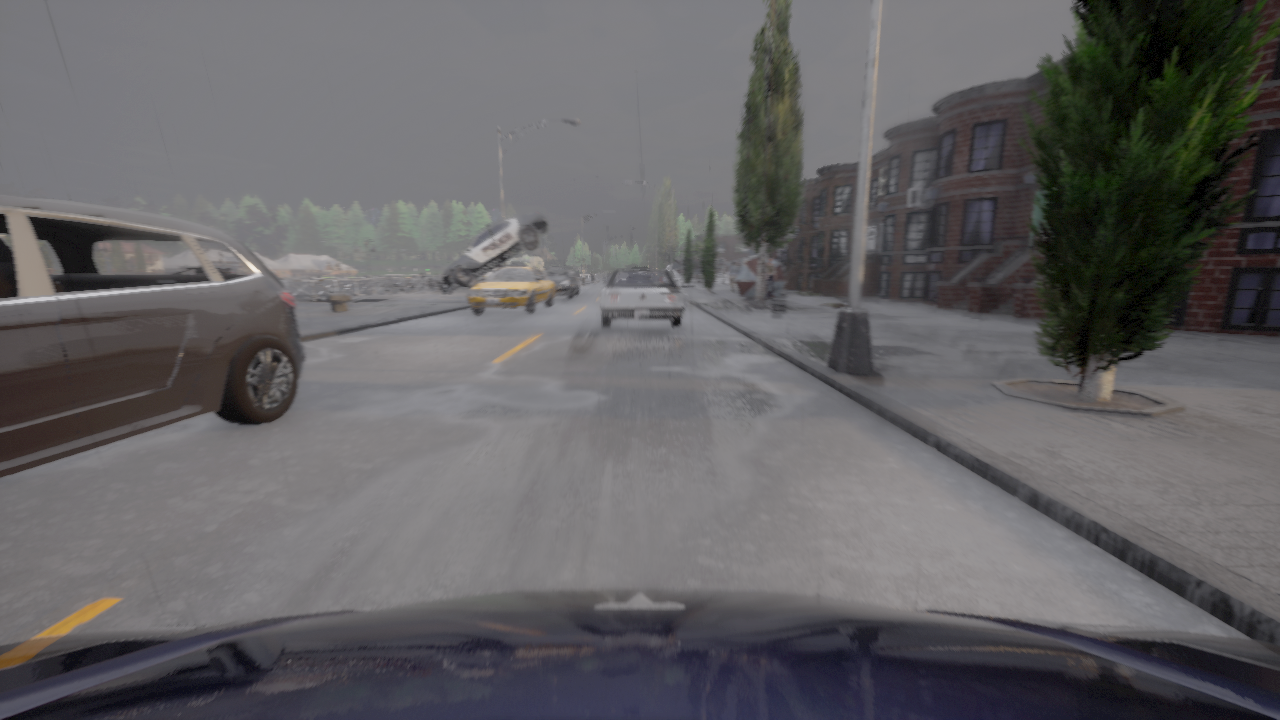cyclist: (0, 588, 1279, 719), (435, 211, 549, 294), (599, 270, 686, 326), (468, 262, 554, 314), (543, 267, 578, 298), (633, 268, 646, 269)
pedestrian: (766, 256, 775, 300), (728, 262, 738, 291), (479, 274, 486, 279)
